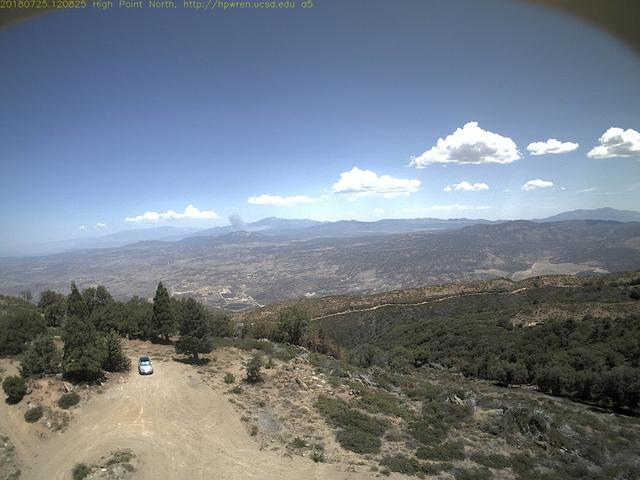smoke: (222, 211, 274, 233)
